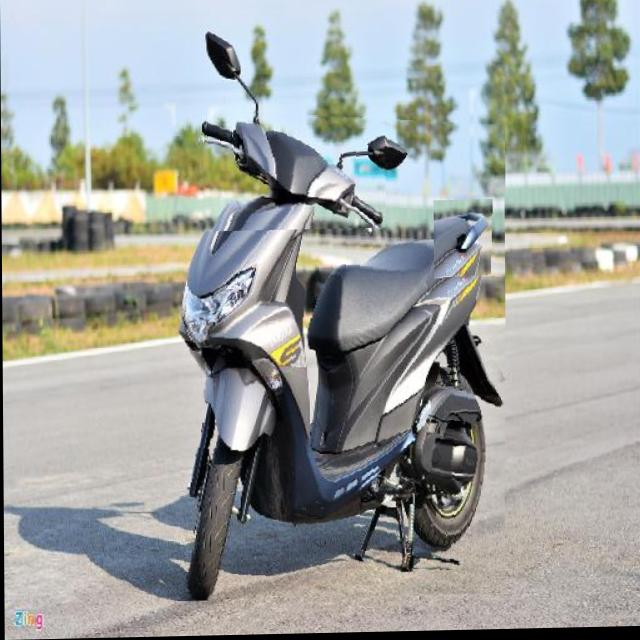All: (177, 103, 507, 601)
Head: (198, 108, 385, 232)
Tail: (433, 201, 493, 280)
